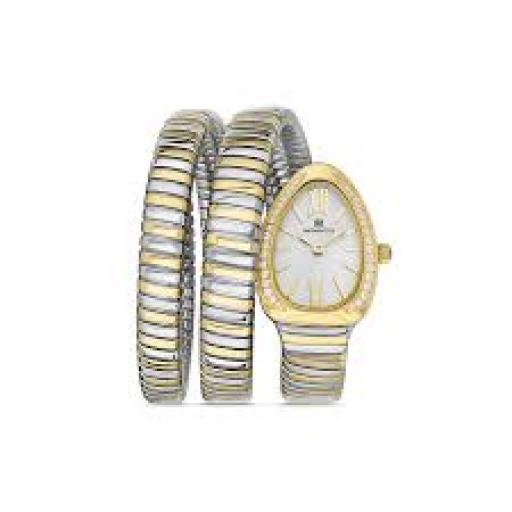KolSaati: (120, 87, 416, 424)
